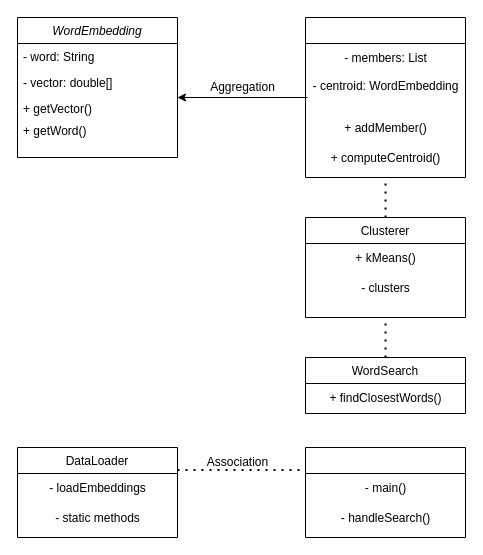
This 483x555 diagram has some shape labels left out. Each missing label, with the box of its shape:
Cluster: (304, 16, 466, 178)
Runner: (304, 446, 466, 538)
